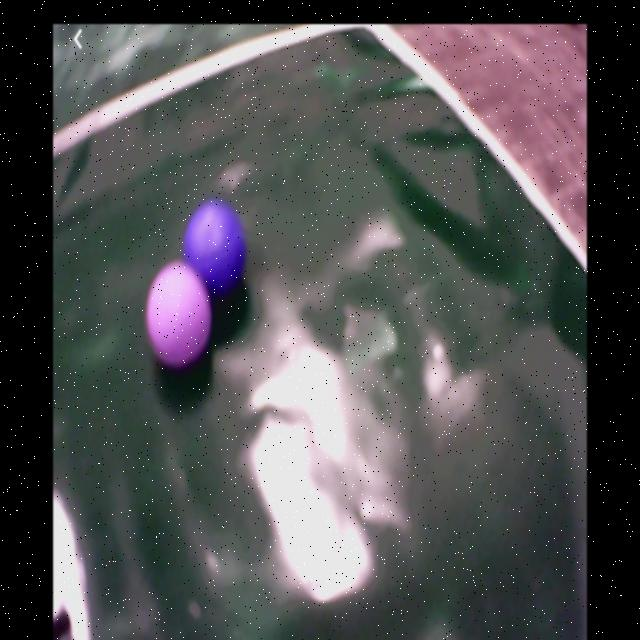ball: (146, 262, 213, 371), (184, 203, 251, 294)
